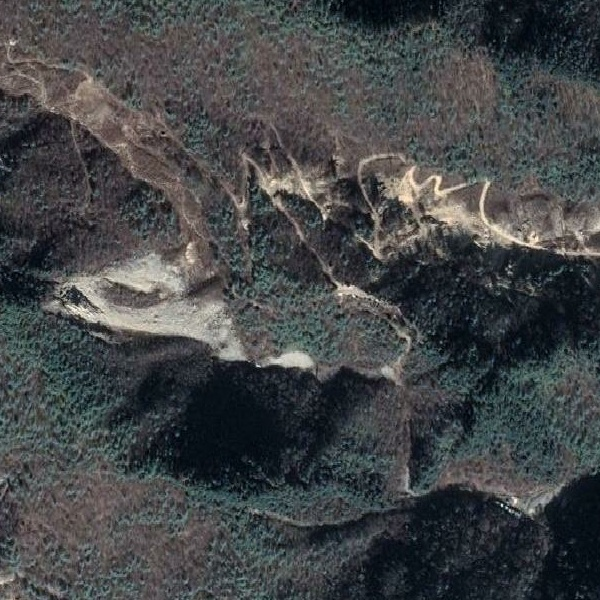slope: (47, 227, 321, 372), (379, 200, 510, 263)
